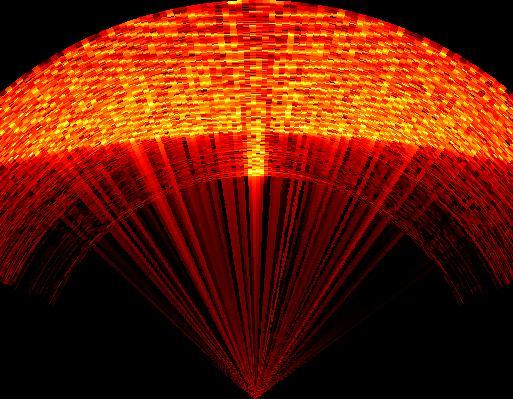pipe: (232, 2, 282, 176)
